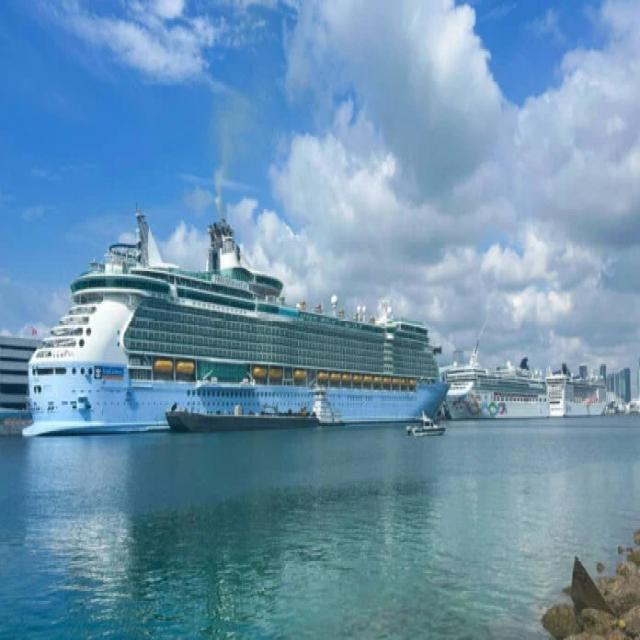PassengerShip: (11, 200, 476, 471)
